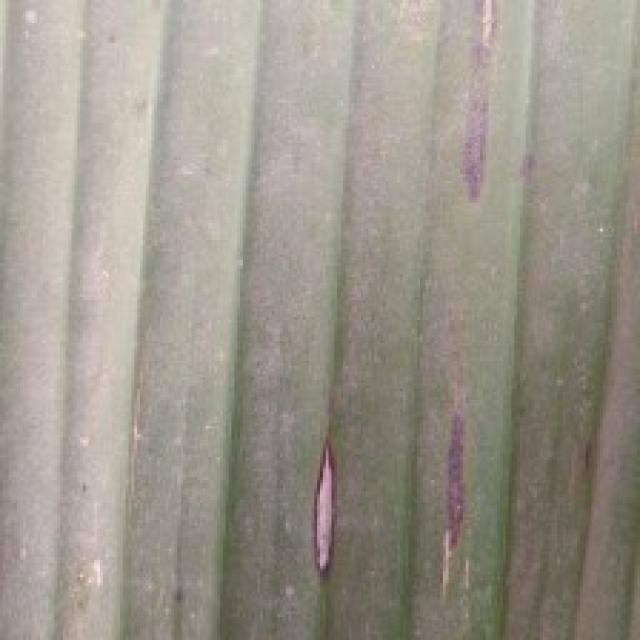Early_leaf_spot: (414, 364, 511, 605), (441, 0, 514, 202), (301, 410, 365, 586), (50, 536, 123, 627), (564, 394, 606, 501), (501, 111, 546, 204)
